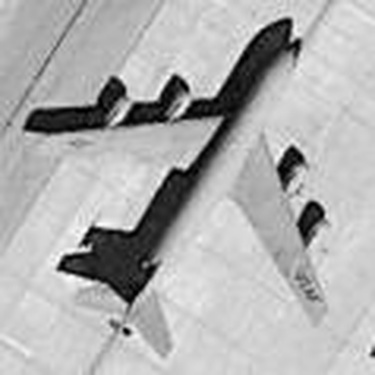airplane: (9, 18, 347, 360)
